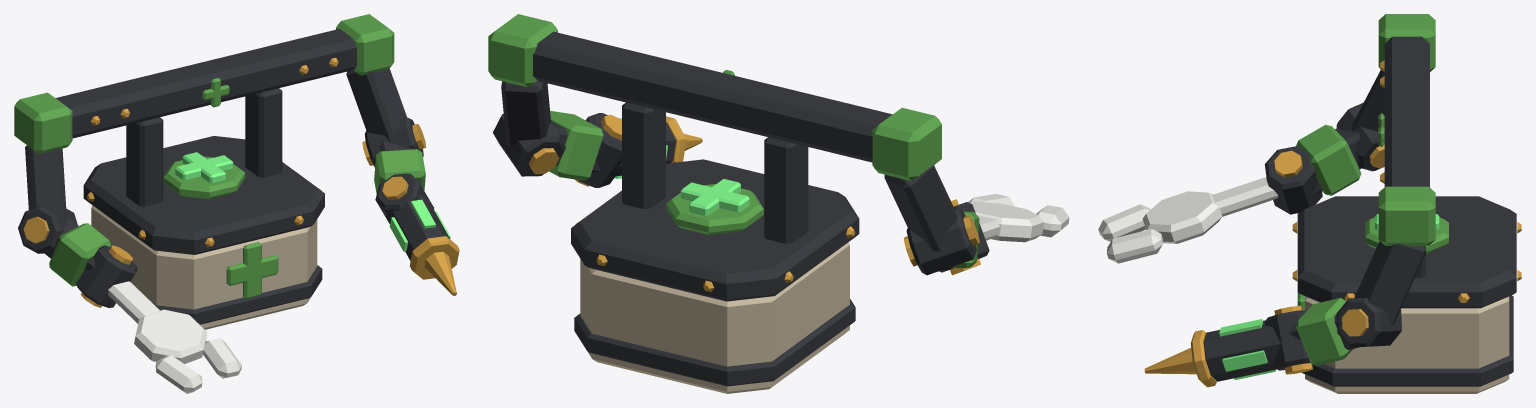
Rendered from MenderA.obj.
3 renders of one model, left to right at view 1: azimuth 30°, elevation 25°; view 2: azimuth 150°, elevation 25°; view 3: azimuth 270°, elevation 25°, orthographic. The views are drawn at different scales.
Visible parts, largest first — view 1: MenderA; view 2: MenderA; view 3: MenderA.
Part boxes in pixels (box(x1,y1,x2,y2)): MenderA: box(14, 14, 459, 393); MenderA: box(488, 14, 1069, 393); MenderA: box(1098, 14, 1521, 393).
Size of the model in its own units: 1.71 by 0.9152 by 1.43.
